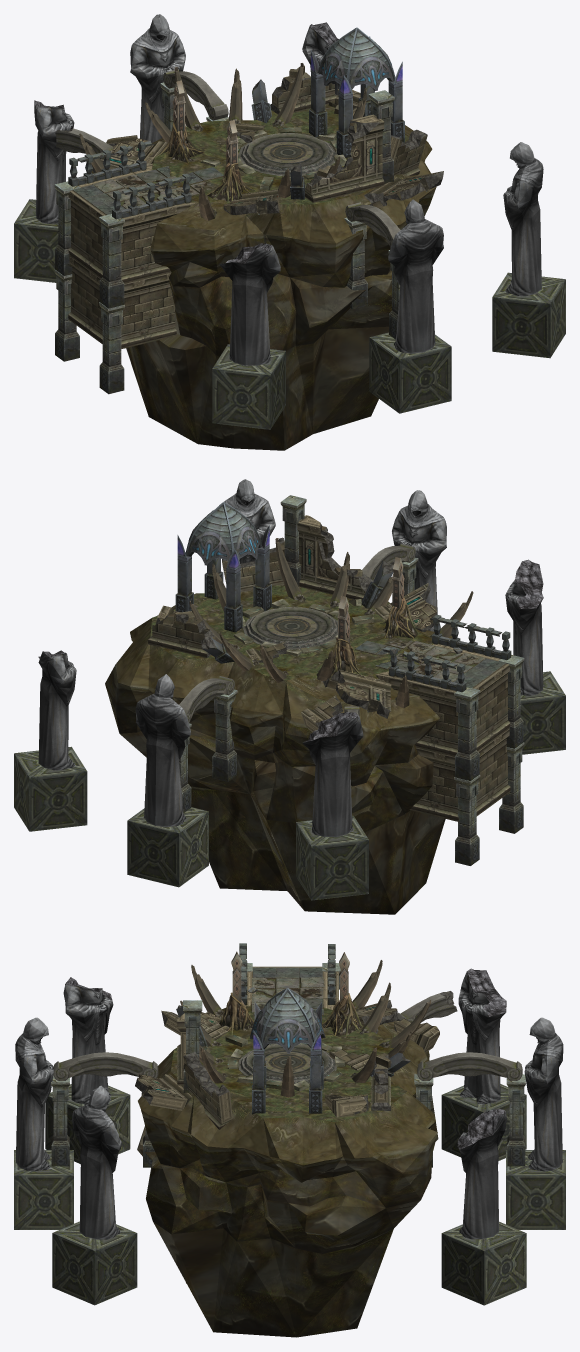
The model's file is BridgeStart.fbx.
3 renders of one model, top to bottom at view 1: azimuth 30°, elevation 25°; view 2: azimuth 150°, elevation 25°; view 3: azimuth 270°, elevation 25°, orthographic.
Visible parts, largest first — view 1: BridgeStart; view 2: BridgeStart; view 3: BridgeStart.
Part boxes in pixels (x1,y1,x2,y2): BridgeStart: [14, 14, 565, 450]; BridgeStart: [14, 479, 565, 914]; BridgeStart: [14, 943, 565, 1337].
Bounding box in the file's own units: 31.22 × 27.32 × 38.47.
